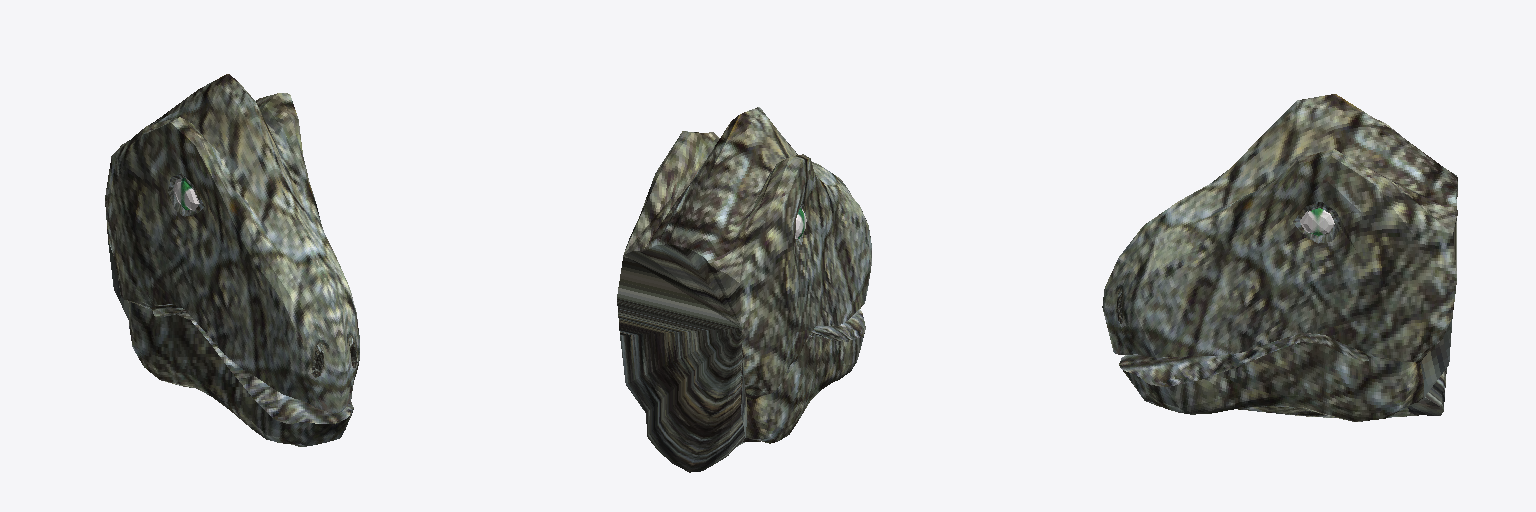
3 renders of one model, left to right at view 1: azimuth 30°, elevation 25°; view 2: azimuth 150°, elevation 25°; view 3: azimuth 270°, elevation 25°, orthographic.
Parts seen in each view (by area): view 1: Cabeza, Ojos; view 2: Cabeza; view 3: Cabeza, Ojos.
Boxes of the visible parts, x1=… form: Cabeza: x1=105, y1=74, x2=359, y2=446; Ojos: x1=173, y1=178, x2=199, y2=210; Cabeza: x1=617, y1=107, x2=871, y2=472; Cabeza: x1=1102, y1=94, x2=1457, y2=421; Ojos: x1=1300, y1=208, x2=1334, y2=235.
Size of the model in its own units: 0.4636 by 1.01 by 1.01.
Materials: 2 (2 with a texture image).